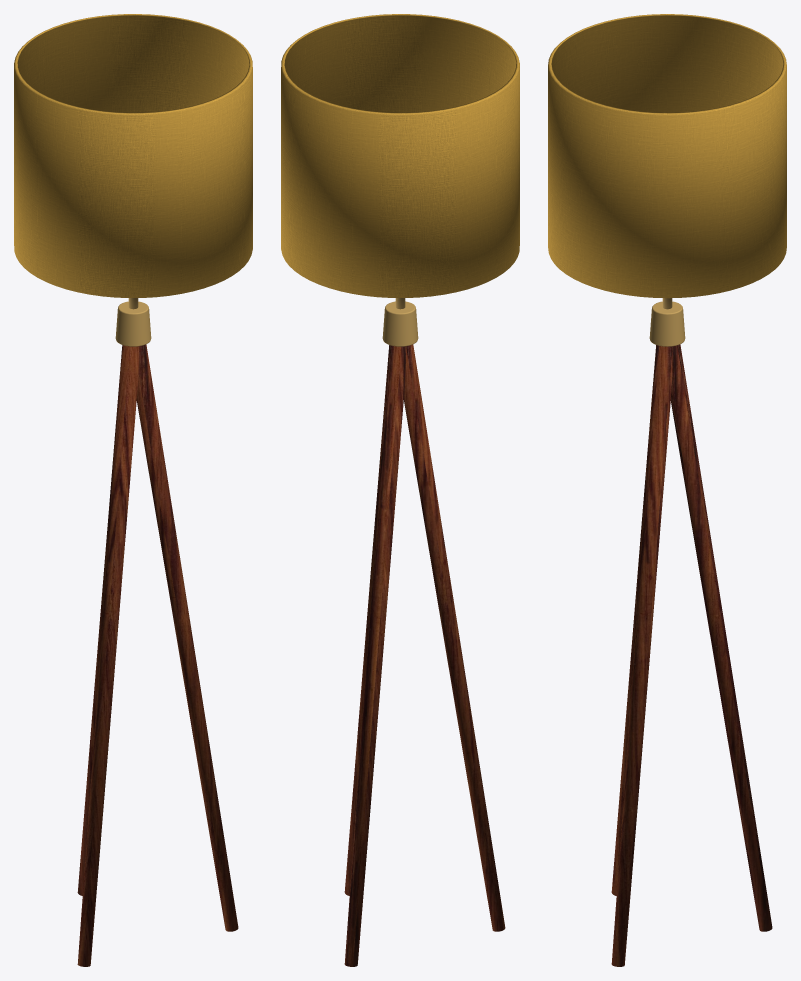
The picture shows the model from 3 angles, left to right: view 1: azimuth 30°, elevation 25°; view 2: azimuth 150°, elevation 25°; view 3: azimuth 270°, elevation 25°; orthographic projection.
Visible parts, largest first — view 1: Drum shade, Walnut leg 2, Walnut leg 3, Walnut leg 1, Brass hub; view 2: Drum shade, Walnut leg 1, Walnut leg 2, Walnut leg 3, Brass hub; view 3: Drum shade, Walnut leg 3, Walnut leg 1, Walnut leg 2, Brass hub.
Part boxes in pixels (box(x1,y1,x2,y2)): Drum shade: box(14, 14, 252, 297); Walnut leg 2: box(77, 345, 138, 966); Walnut leg 3: box(136, 344, 238, 931); Walnut leg 1: box(77, 347, 122, 895); Brass hub: box(115, 301, 151, 346); Drum shade: box(281, 14, 519, 297); Walnut leg 1: box(344, 345, 405, 966); Walnut leg 2: box(404, 344, 505, 931); Walnut leg 3: box(344, 345, 389, 895); Brass hub: box(382, 301, 418, 346); Drum shade: box(548, 14, 786, 298); Walnut leg 3: box(611, 345, 672, 966); Walnut leg 1: box(670, 344, 772, 931); Walnut leg 2: box(611, 345, 656, 895); Brass hub: box(649, 301, 685, 346).
Size of the model in its own units: 0.4 by 1.6 by 0.4.
Materials: 4 (2 with a texture image).
